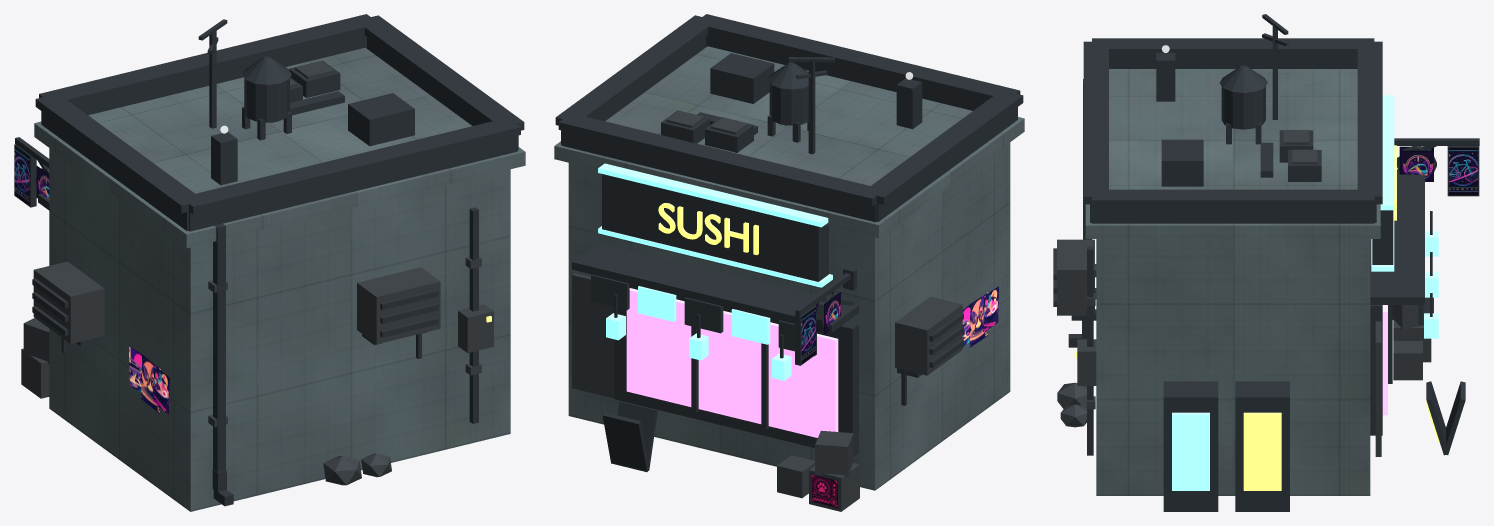
The model's file is synthwave-shop-c.glb.
3 views of the same model, side by side, from view 1: azimuth 30°, elevation 25°; view 2: azimuth 150°, elevation 25°; view 3: azimuth 270°, elevation 25° (orthographic). The views are drawn at different scales.
Parts seen in each view (by area): view 1: Shop_Body2, Shop_Frame, Shop_Door, RK_Duct, Shop_ShopPosters, RK_WtTank-2_2, RK_Vent, RK_WtCap-2_2, RK_AcBox18_15, Shop_BrkBrandSUSHI, RK_AntMast-12_10, RK_AcDuct8_15; view 2: Shop_Body2, Shop_Frame, ShopPane, Shop_Door, Shop_NeonA, Shop_PaneOff, RK_Duct, Shop_PaneADim, ShopSignText, Shop_ShopPosters, RK_WtTank-2_2, Shop_DimA (+7 smaller); view 3: Shop_Body2, Shop_Frame, Shop_Door, VendGlow1, VendGlow0, RK_Duct, Shop_NeonA, RK_WtTank-2_2, Shop_BrkBrandSUSHI, Shop_DimA, RK_Vent, Shop_BrkEmbSUSHI (+5 smaller).
Part boxes in pixels (x1,y1,x2,y2): Shop_Body2: (34,47,525,511); Shop_Frame: (14,14,524,506); Shop_Door: (21,256,493,485); RK_Duct: (348,93,414,146); Shop_ShopPosters: (129,346,169,414); RK_WtTank-2_2: (244,78,289,122); RK_Vent: (211,132,237,185); RK_WtCap-2_2: (242,56,291,84); RK_AcBox18_15: (289,60,340,97); Shop_BrkBrandSUSHI: (14,146,29,205); RK_AntMast-12_10: (209,30,216,128); RK_AcDuct8_15: (290,91,344,115); Shop_Body2: (554,46,1024,490); Shop_Frame: (555,14,1023,471); ShopPane: (626,288,838,437); Shop_Door: (572,273,962,511); Shop_NeonA: (598,163,832,287); Shop_PaneOff: (591,274,816,356); RK_Duct: (710,53,774,103); Shop_PaneADim: (638,286,770,344); ShopSignText: (658,203,758,254); Shop_ShopPosters: (962,286,998,347); RK_WtTank-2_2: (769,83,808,125); Shop_DimA: (606,313,791,380); Shop_Body2: (1085,69,1380,495); Shop_Frame: (1053,38,1479,511); Shop_Door: (1057,239,1433,456); VendGlow1: (1243,412,1281,490); VendGlow0: (1172,412,1209,490); RK_Duct: (1161,139,1203,186); Shop_NeonA: (1371,95,1394,271); RK_WtTank-2_2: (1221,86,1265,129); Shop_BrkBrandSUSHI: (1449,148,1477,195); Shop_DimA: (1424,231,1438,338); RK_Vent: (1156,52,1175,101); Shop_BrkEmbSUSHI: (1399,146,1433,181).
Bounding box in the file's own units: 1.05 × 0.984 × 1.01.
Materials: 17 (5 with a texture image).
